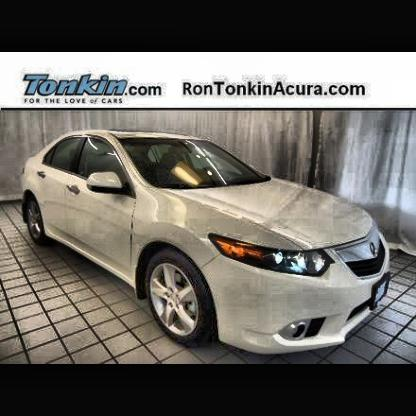Acura TSX Sedan 2012: (22, 132, 393, 357)
